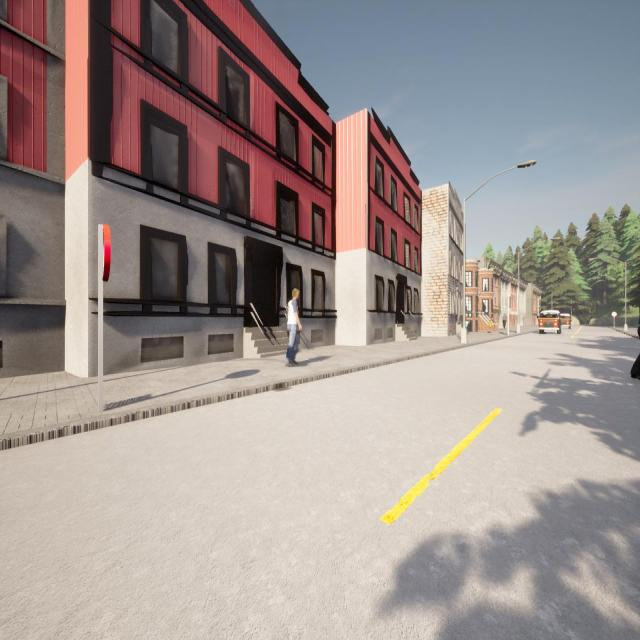Pedestrian: (285, 288, 302, 366), (502, 312, 508, 330), (487, 318, 493, 334)
Traffic_Signs: (97, 224, 111, 284), (612, 312, 618, 318)
Vehicle: (537, 310, 561, 334), (558, 313, 572, 329)
traffic_light: (506, 296, 511, 308)
